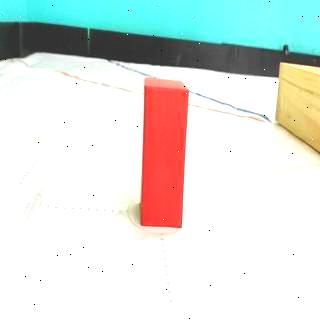redbox: (142, 77, 188, 228)
